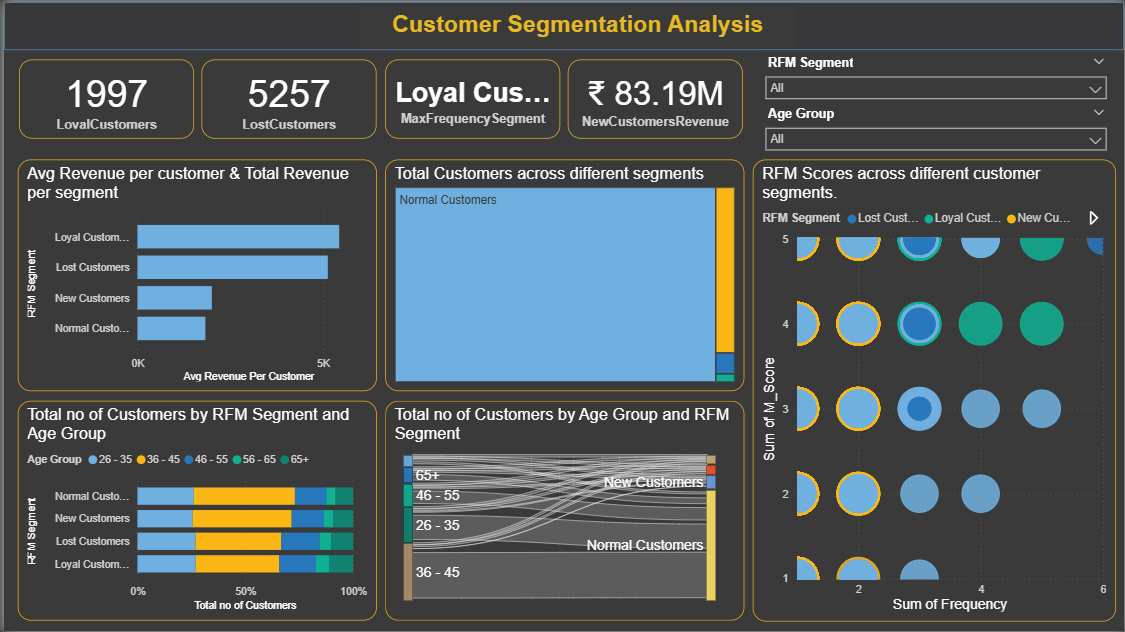

What the dashboard file says about the page in this screenshot:
{"tool":"powerbi","page":{"name":"Report-3","canvas":[1280,720],"ordinal":2},"visuals":[{"type":"card","fields":{"Values":["Grouped Data of customer.LoyalCustomers"]},"box":[16.7,66,200,90],"z":0},{"type":"card","fields":{"Values":["Grouped Data of customer.LostCustomers"]},"box":[225,66,200,90],"z":1000},{"type":"card","fields":{"Values":["Grouped Data of customer.NewCustomersRevenue"]},"box":[644,66,200,90],"z":2000},{"type":"shape","box":[0,0,1280,55],"z":3000},{"type":"card","fields":{"Values":["Grouped Data of customer.MaxFrequencySegment"]},"box":[435,66,200,90],"z":4000},{"type":"textbox","box":[405,5,500,46.7],"z":5000},{"type":"barChart","title":"Avg Revenue per customer & Total Revenue per segment","fields":{"Category":["Grouped Data of customer.RFM Segment"],"Y":["Grouped Data of customer.Avg Revenue Per Customer"]},"box":[16,180,410,265],"z":6000},{"type":"treemap","title":"Total Customers across different segments","fields":{"Group":["Grouped Data of customer.RFM Segment"],"Values":["CountNonNull(Grouped Data of customer.CustomerID)"]},"box":[435,180,410,265],"z":7000},{"type":"hundredPercentStackedBarChart","fields":{"Category":["Grouped Data of customer.RFM Segment"],"Series":["bank_transactions.Age Group"],"Y":["bank_transactions.Total no of Customers"]},"box":[16,456.4,410,250.9],"z":8000},{"type":"scatterChart","title":"RFM Scores across different customer segments.","fields":{"Category":["Grouped Data of customer.CustomerID"],"Series":["Grouped Data of customer.RFM Segment"],"Size":["Sum(Grouped Data of customer.R_Score)"],"X":["Sum(Grouped Data of customer.Frequency)"],"Y":["Sum(Grouped Data of customer.M_Score)"]},"box":[855,180,415,528],"z":9000},{"type":"slicer","fields":{"Values":["Grouped Data of customer.RFM Segment"]},"box":[860.3,55.3,409.6,60],"z":10000},{"type":"slicer","fields":{"Values":["bank_transactions.Age Group"]},"box":[860,114.8,409.6,59.5],"z":11000},{"type":"sankey02300D1BE6F5427989F3DE31CCA9E0F32020","fields":{"Source":["bank_transactions.Age Group"],"Destination":["Grouped Data of customer.RFM Segment"],"Weight":["bank_transactions.Total no of Customers"]},"box":[435,456,410,251],"z":12000}]}

Visuals, with their boxes in screenshot pixels (x1, y1, x2, y2), scaled from the page's 1280x720 canvas onto the 1125x632 screenshot:
card - Grouped Data of customer.LoyalCustomers: region(15, 58, 190, 137)
card - Grouped Data of customer.LostCustomers: region(198, 58, 374, 137)
card - Grouped Data of customer.NewCustomersRevenue: region(566, 58, 742, 137)
shape: region(0, 0, 1124, 48)
card - Grouped Data of customer.MaxFrequencySegment: region(382, 58, 558, 137)
textbox: region(356, 4, 795, 45)
"Avg Revenue per customer & Total Revenue per segment" barChart: region(14, 158, 374, 391)
"Total Customers across different segments" treemap: region(382, 158, 743, 391)
hundredPercentStackedBarChart - Grouped Data of customer.RFM Segment x bank_transactions.Age Group: region(14, 401, 374, 621)
"RFM Scores across different customer segments." scatterChart: region(751, 158, 1116, 621)
slicer - Grouped Data of customer.RFM Segment: region(756, 49, 1116, 101)
slicer - bank_transactions.Age Group: region(756, 101, 1116, 153)
sankey02300D1BE6F5427989F3DE31CCA9E0F32020 - bank_transactions.Age Group x Grouped Data of customer.RFM Segment: region(382, 400, 743, 621)
